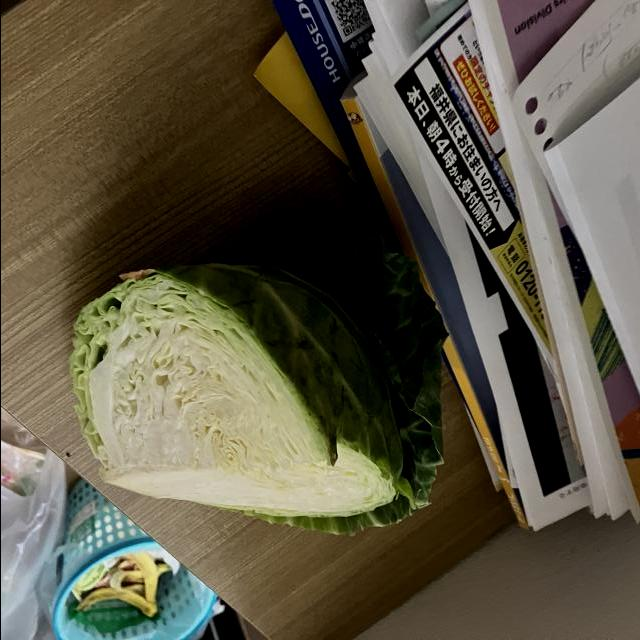cabbage: (63, 223, 453, 537)
